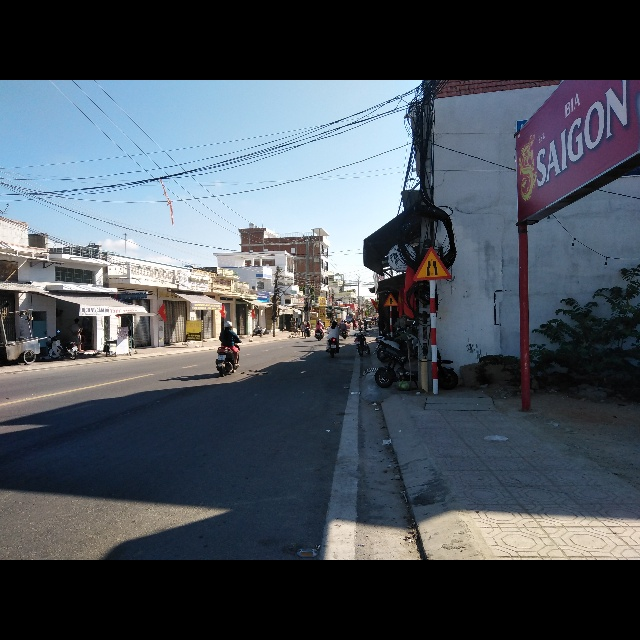Đường bị hẹp cả hai bên: (411, 246, 453, 281)
